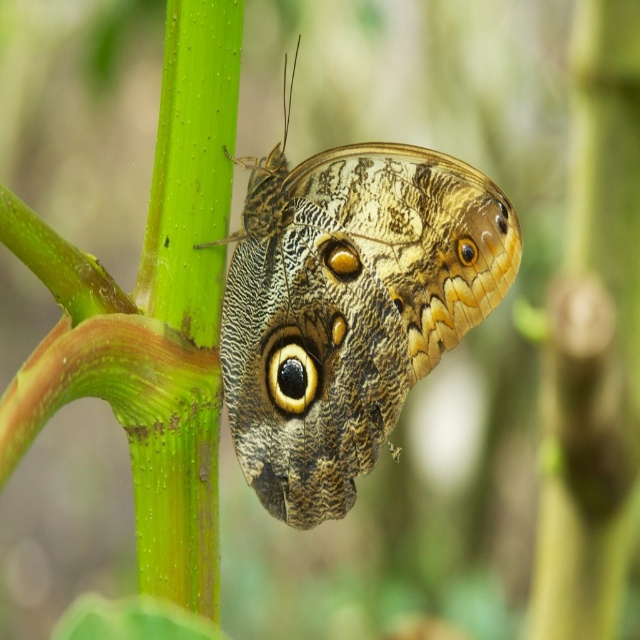Butterfly: (194, 34, 522, 529)
